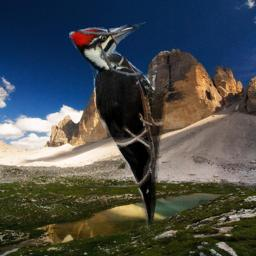Woodpecker: (69, 22, 169, 237)
